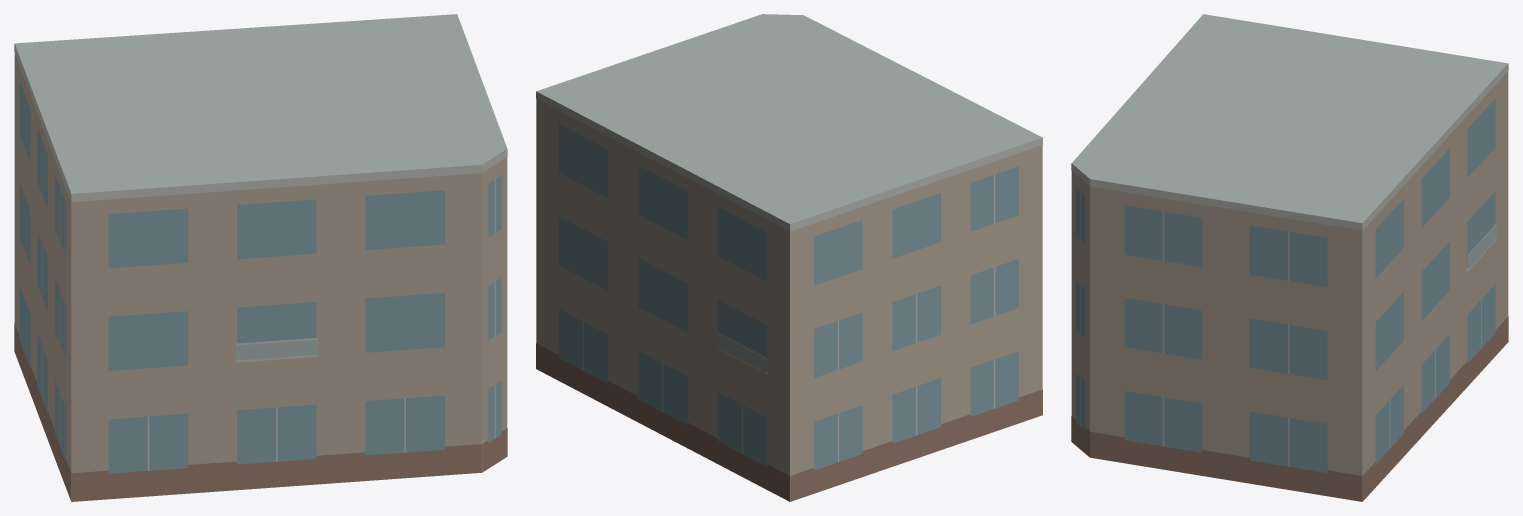
Rendered from survey-upis-32556195.glb.
3 views of the same model, side by side, from view 1: azimuth 30°, elevation 25°; view 2: azimuth 150°, elevation 25°; view 3: azimuth 270°, elevation 25° (orthographic). The views are drawn at different scales.
Visible parts, largest first — view 1: survey-upis-32556195.tmp; view 2: survey-upis-32556195.tmp; view 3: survey-upis-32556195.tmp.
Part boxes in pixels (x1,y1,x2,y2): survey-upis-32556195.tmp: [14, 14, 507, 501]; survey-upis-32556195.tmp: [536, 14, 1042, 501]; survey-upis-32556195.tmp: [1071, 14, 1508, 501].
Size of the model in its own units: 14.75 by 9.15 by 13.01.
